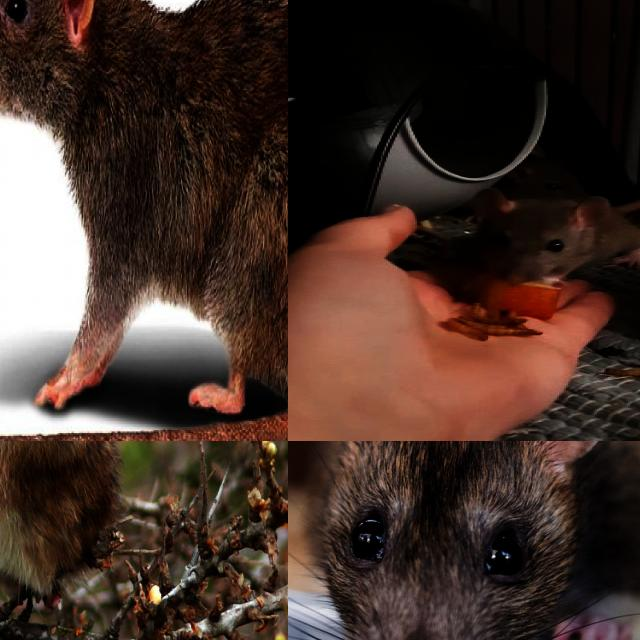rat: (0, 0, 288, 384), (288, 441, 640, 640), (470, 189, 640, 291), (0, 441, 109, 593)
